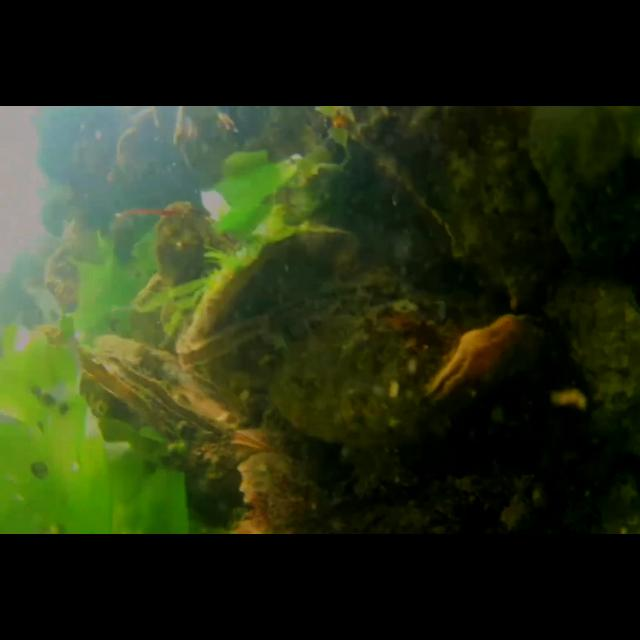Oyster-Closed: (341, 108, 569, 296), (540, 262, 640, 462), (525, 106, 640, 272), (169, 106, 349, 208), (152, 198, 242, 298)
Oyster-Open: (176, 271, 482, 471), (173, 226, 371, 350), (78, 332, 242, 448), (424, 311, 556, 423), (230, 422, 280, 458)
